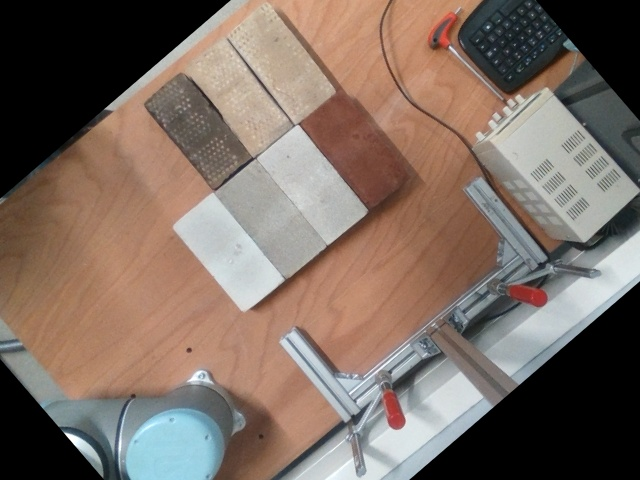brick: (226, 0, 338, 123), (171, 192, 284, 312), (214, 158, 326, 278), (299, 87, 411, 207), (140, 70, 252, 189), (184, 35, 294, 156), (258, 124, 367, 242)
